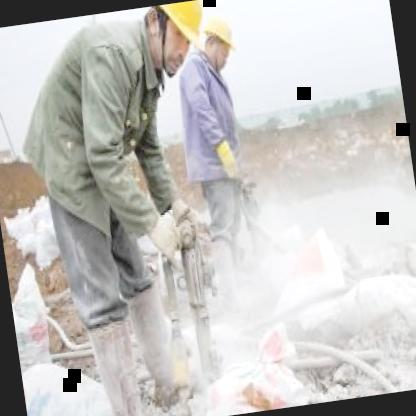helmet: (137, 0, 220, 80), (195, 5, 239, 72)
